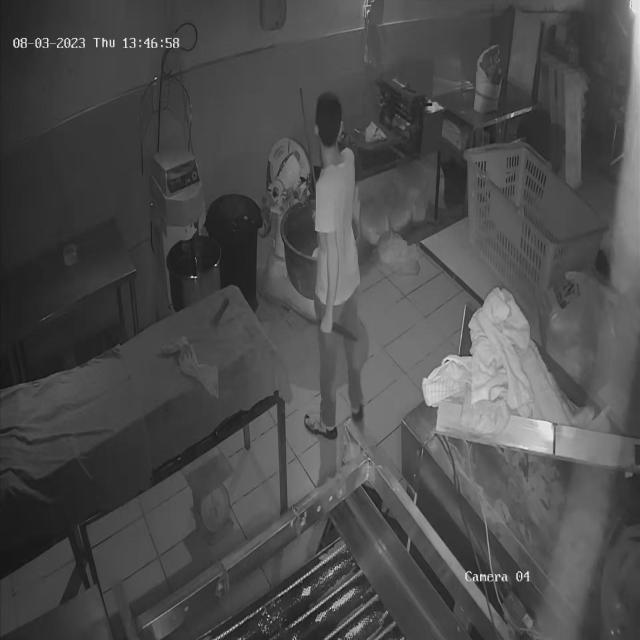Knife: (317, 316, 365, 356)
